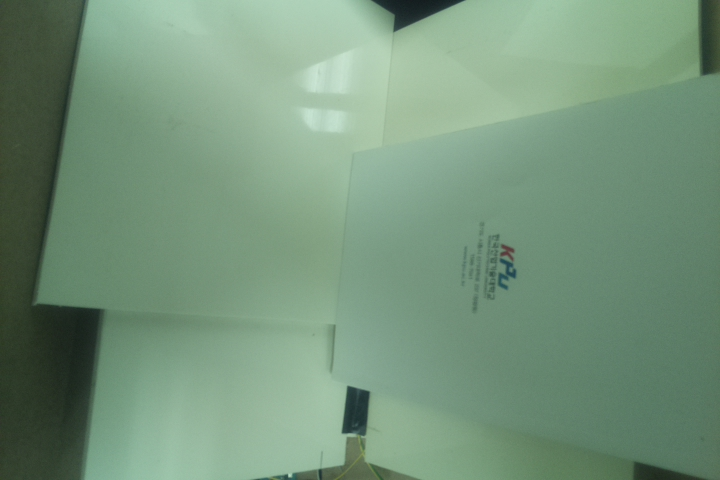book: (328, 71, 719, 480)
